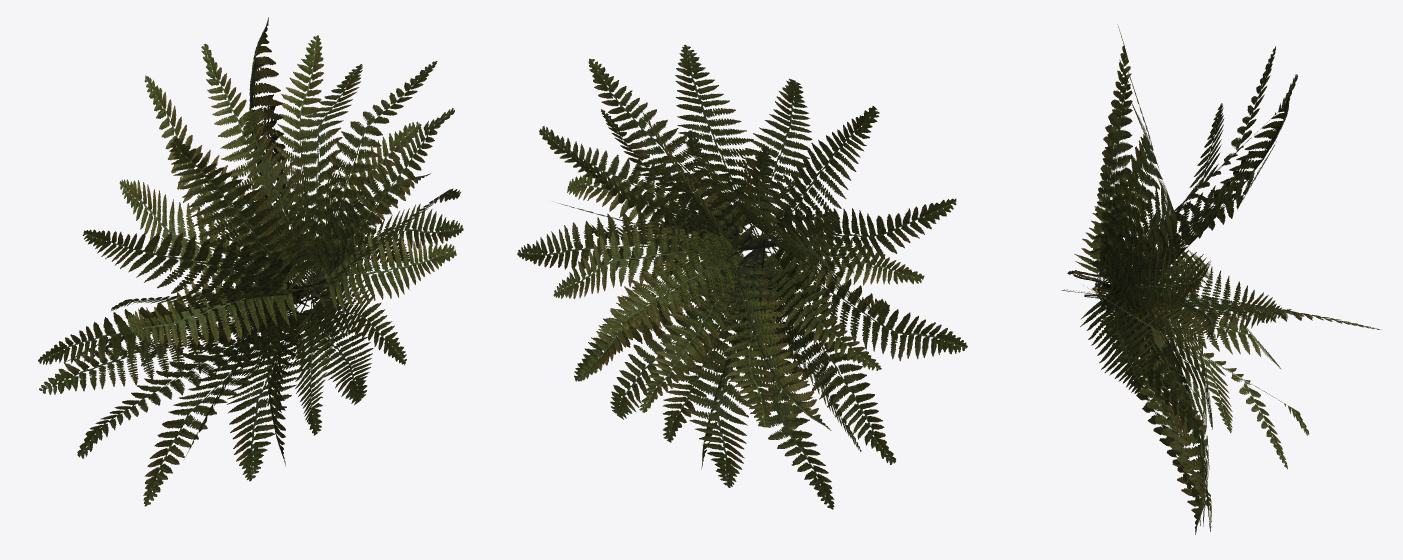
File: MEP_Fern_01.fbx
The picture shows the model from 3 angles, left to right: view 1: azimuth 30°, elevation 25°; view 2: azimuth 150°, elevation 25°; view 3: azimuth 270°, elevation 25°; orthographic projection. The views are drawn at different scales.
Visible parts, largest first — view 1: MEP_Fern_01; view 2: MEP_Fern_01; view 3: MEP_Fern_01.
Part boxes in pixels (<box>): MEP_Fern_01: <box>38,17,463,506</box>; MEP_Fern_01: <box>517,44,967,509</box>; MEP_Fern_01: <box>1061,24,1381,534</box>.
Size of the model in its own units: 2.62 by 2.39 by 1.38.
